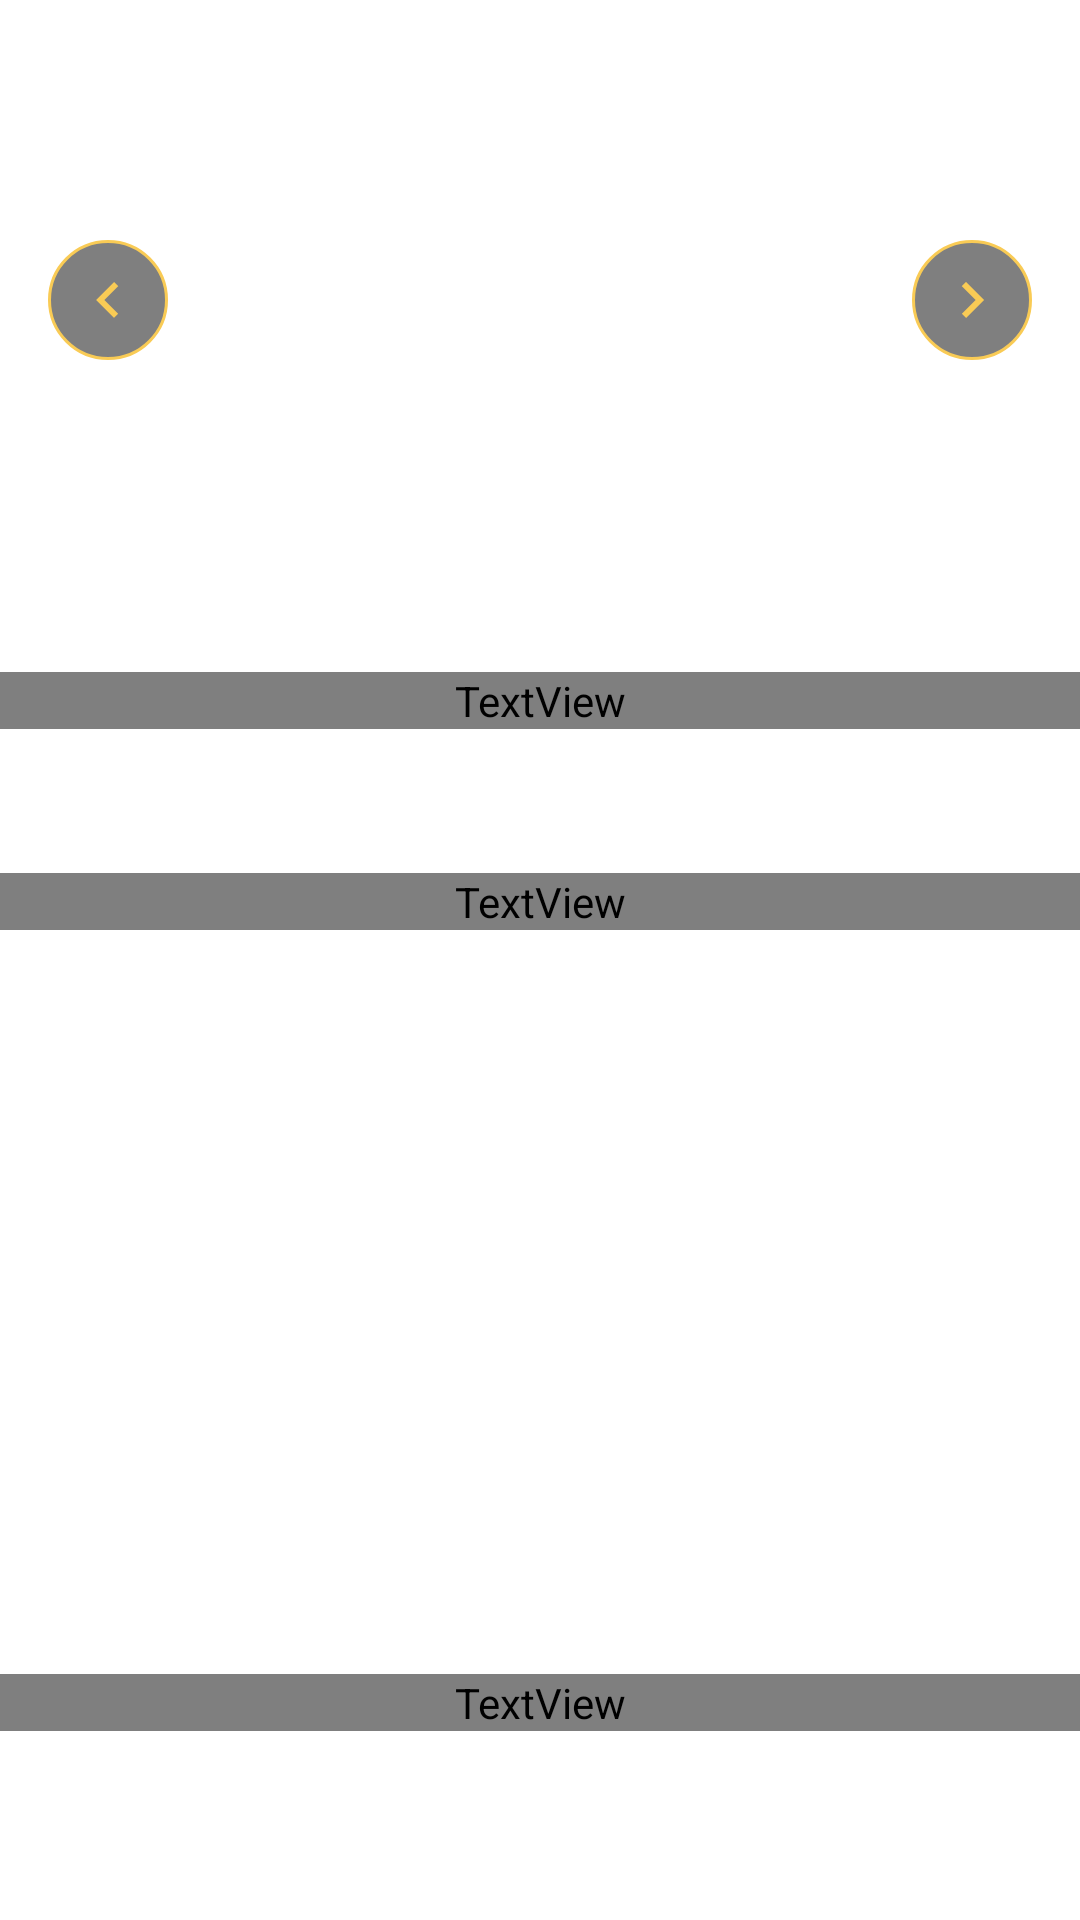

Icon bounding boxes for this 1080px x 1920px phone screenshot, format BBox(x1, y1, x2, y2):
Next slide: BBox(912, 240, 1032, 360)
Previous slide: BBox(48, 240, 168, 360)
